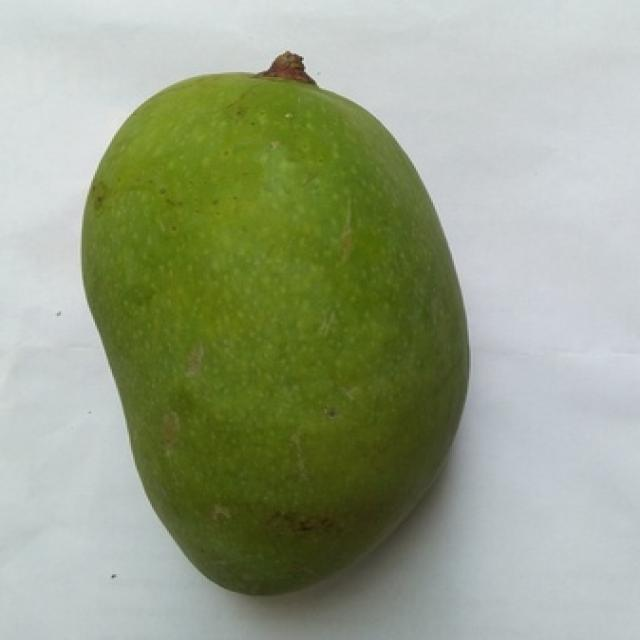Mango: (84, 58, 467, 593)
